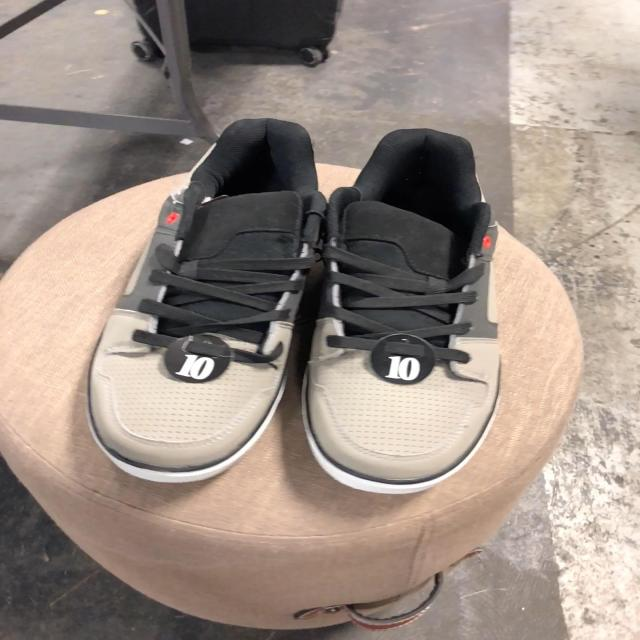shoe: (87, 119, 327, 481), (304, 133, 500, 488)
